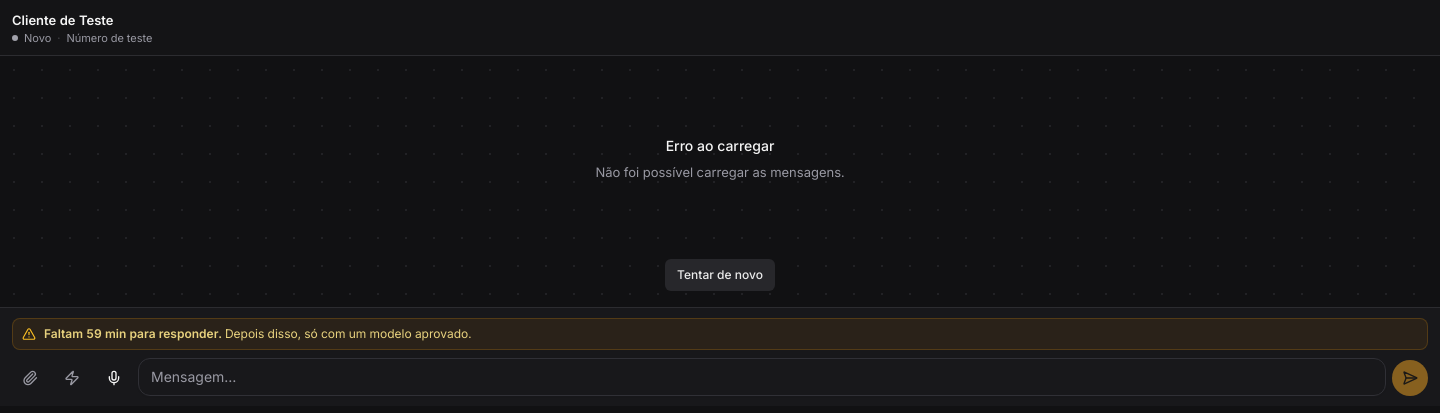
MessageThread › erro na primeira carga aparece e o 'tentar de novo' funciona
Click the button "Tentar de novo". click: (720, 275)
box: [665, 259, 775, 291]
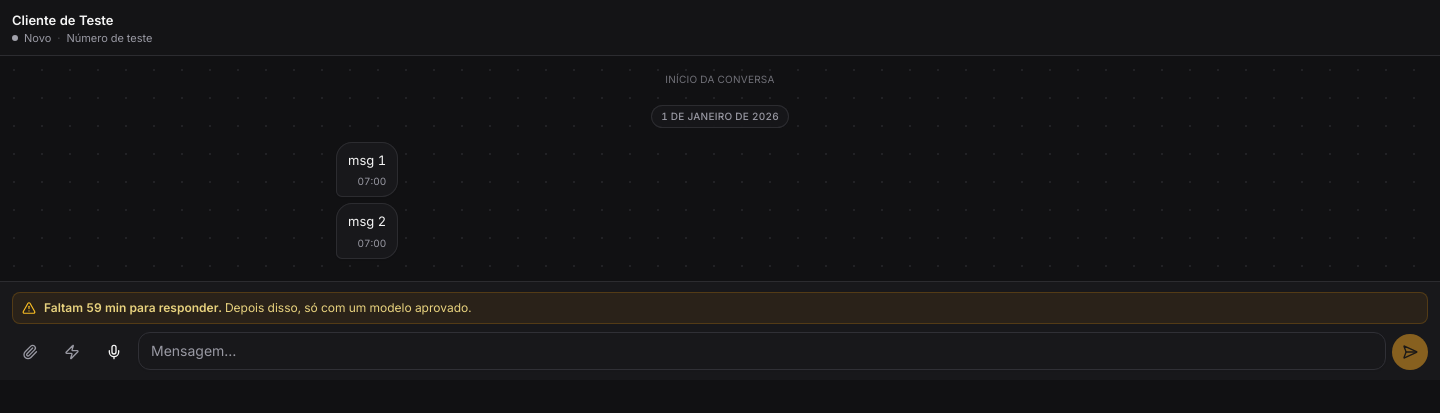
Expected: the text "msg 2" is shown, [348, 211, 386, 232]
